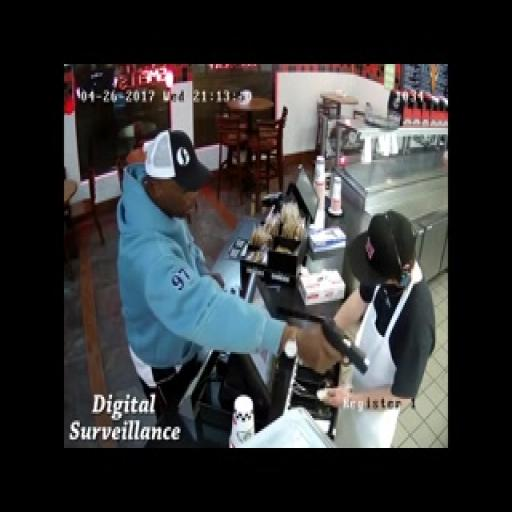Handgun: (314, 309, 370, 380)
